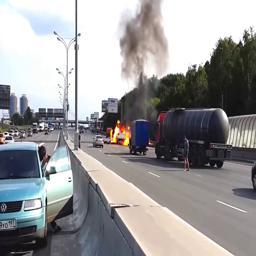fire: (109, 121, 130, 145)
